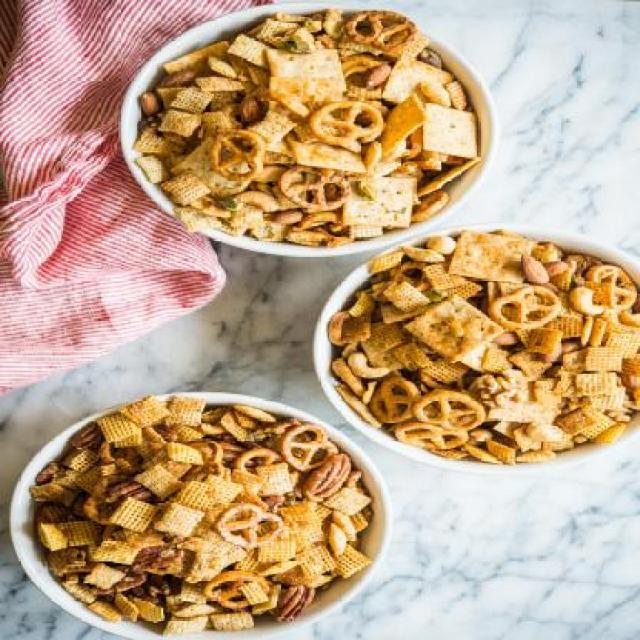Salatini packaged: (121, 13, 487, 241), (33, 398, 364, 628), (323, 228, 639, 464)
